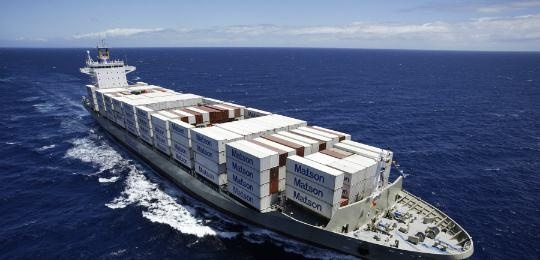Cargoship: (76, 36, 479, 260)
